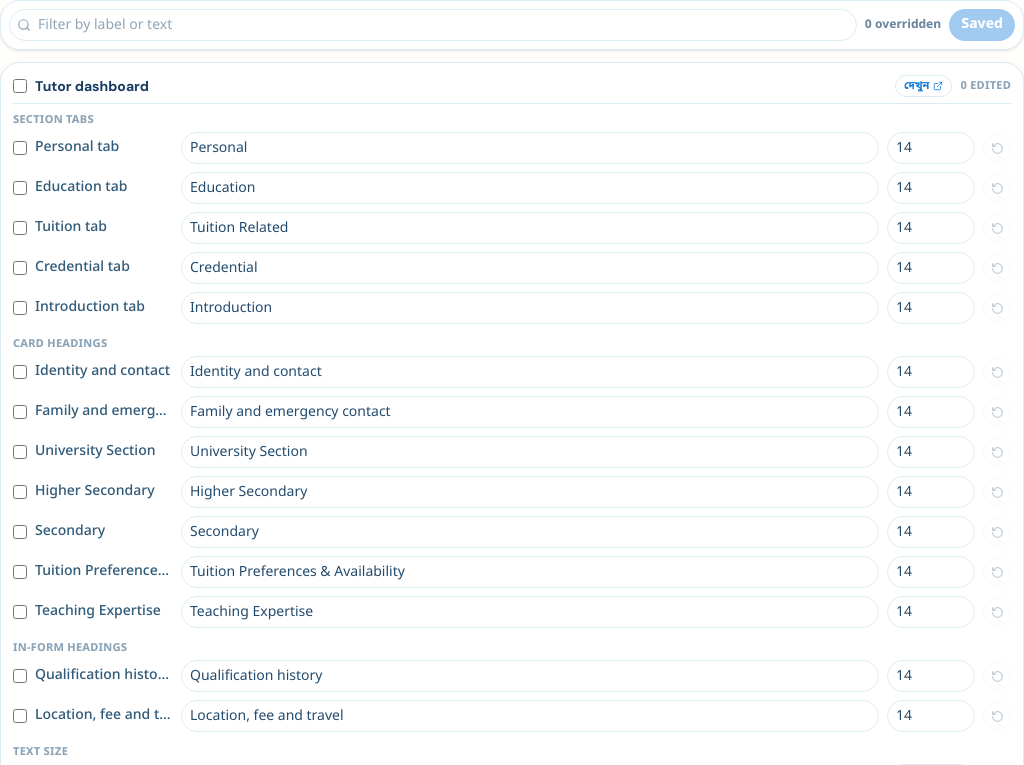
Scenario: Site content editor bulk actions › selects only what the filter leaves visible
Type "qualification" into the field with placeholder "Filter by label or text" at [433, 25], box [9,9,857,41]
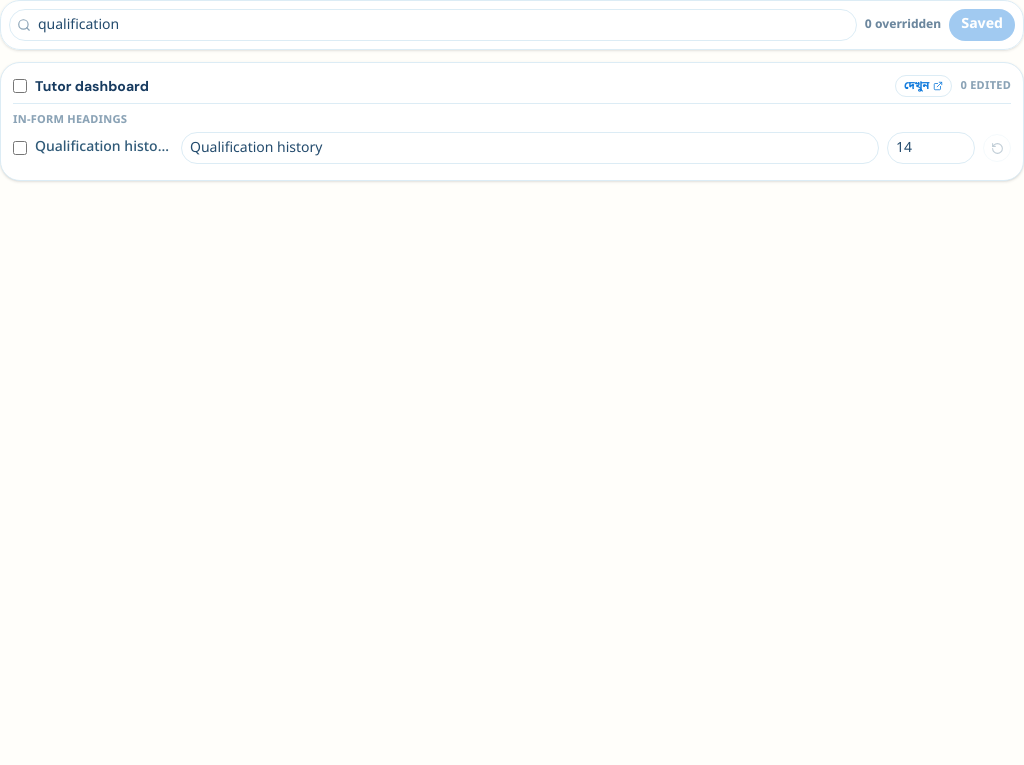
Click the checkbox named "Select every row under Tutor dashboard" at [20, 86], box [13,79,27,93]
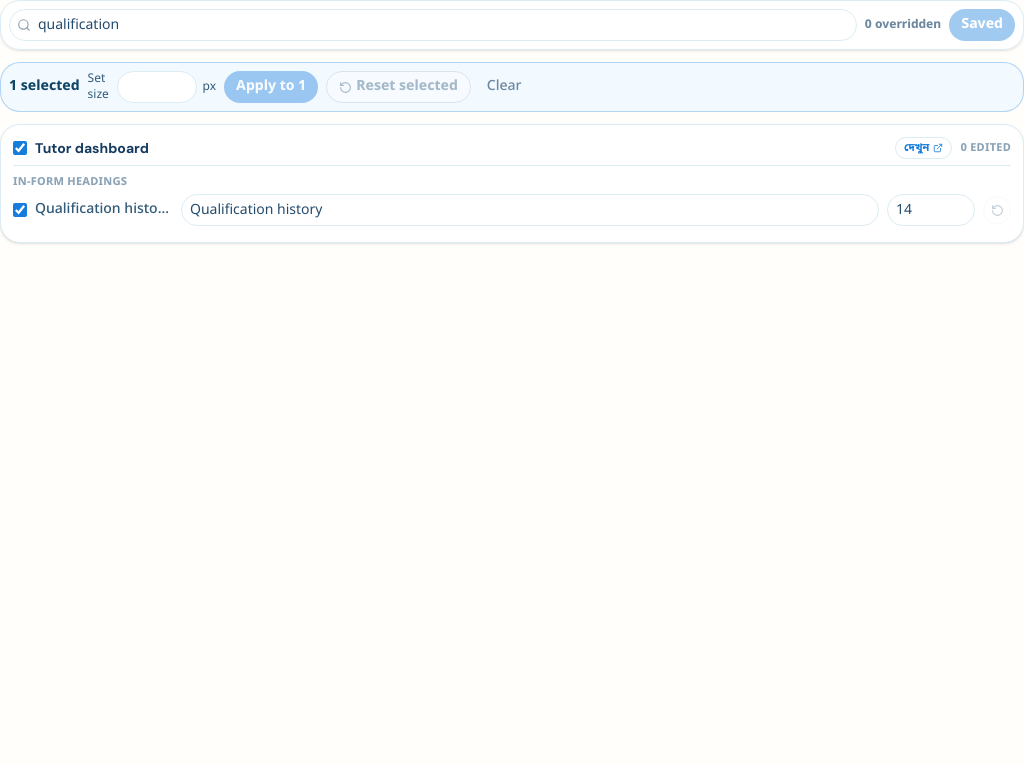
Check: the text "1 selected" is shown, box [9,77,80,97]
